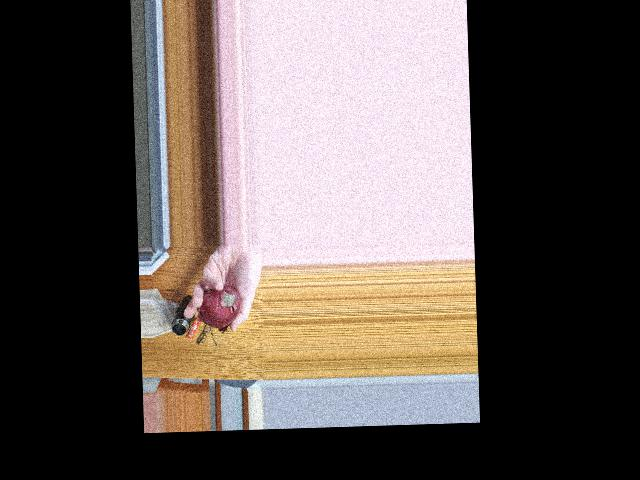onion: (201, 284, 240, 324)
